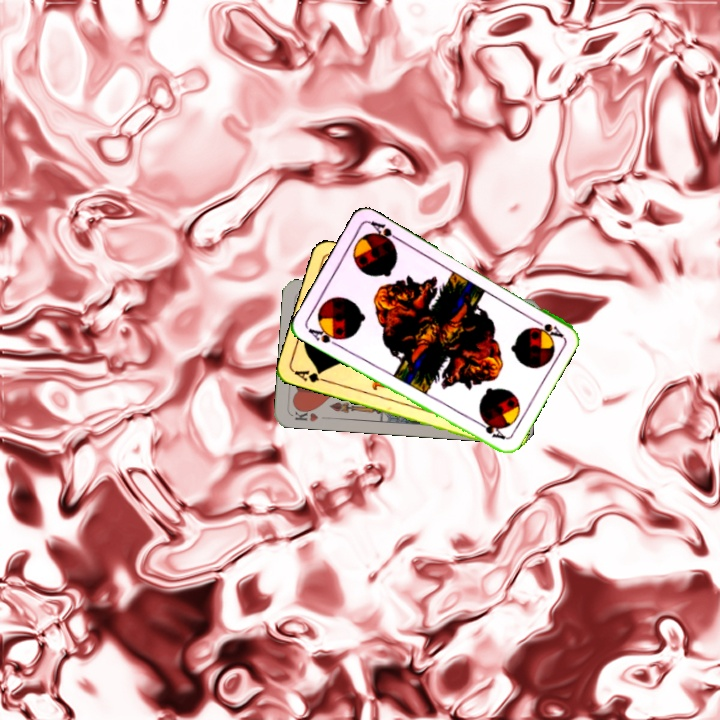GA: (290, 366, 331, 385)
HK: (291, 404, 320, 424)
SA: (304, 322, 344, 349), (528, 314, 565, 340)
